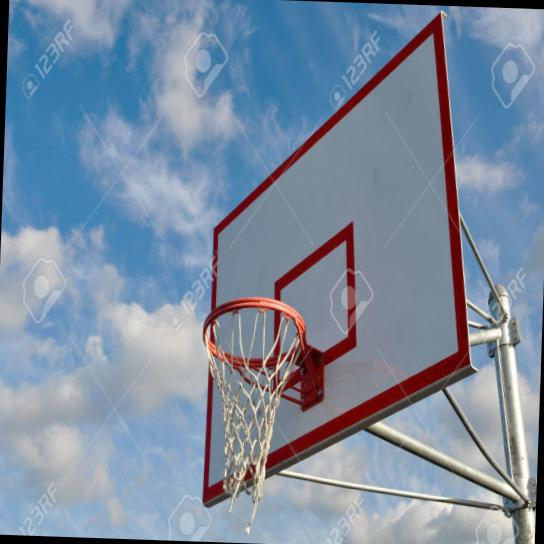basketball-hoop: (196, 294, 310, 506)
